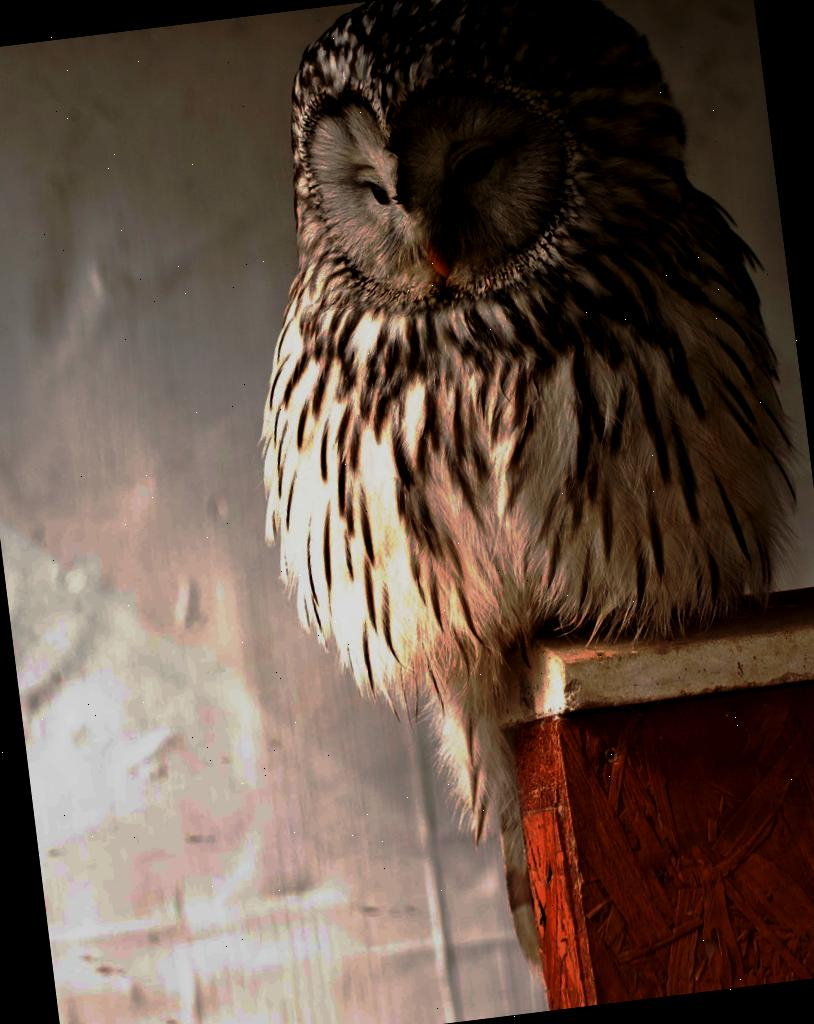Owl: (204, 0, 814, 996)
